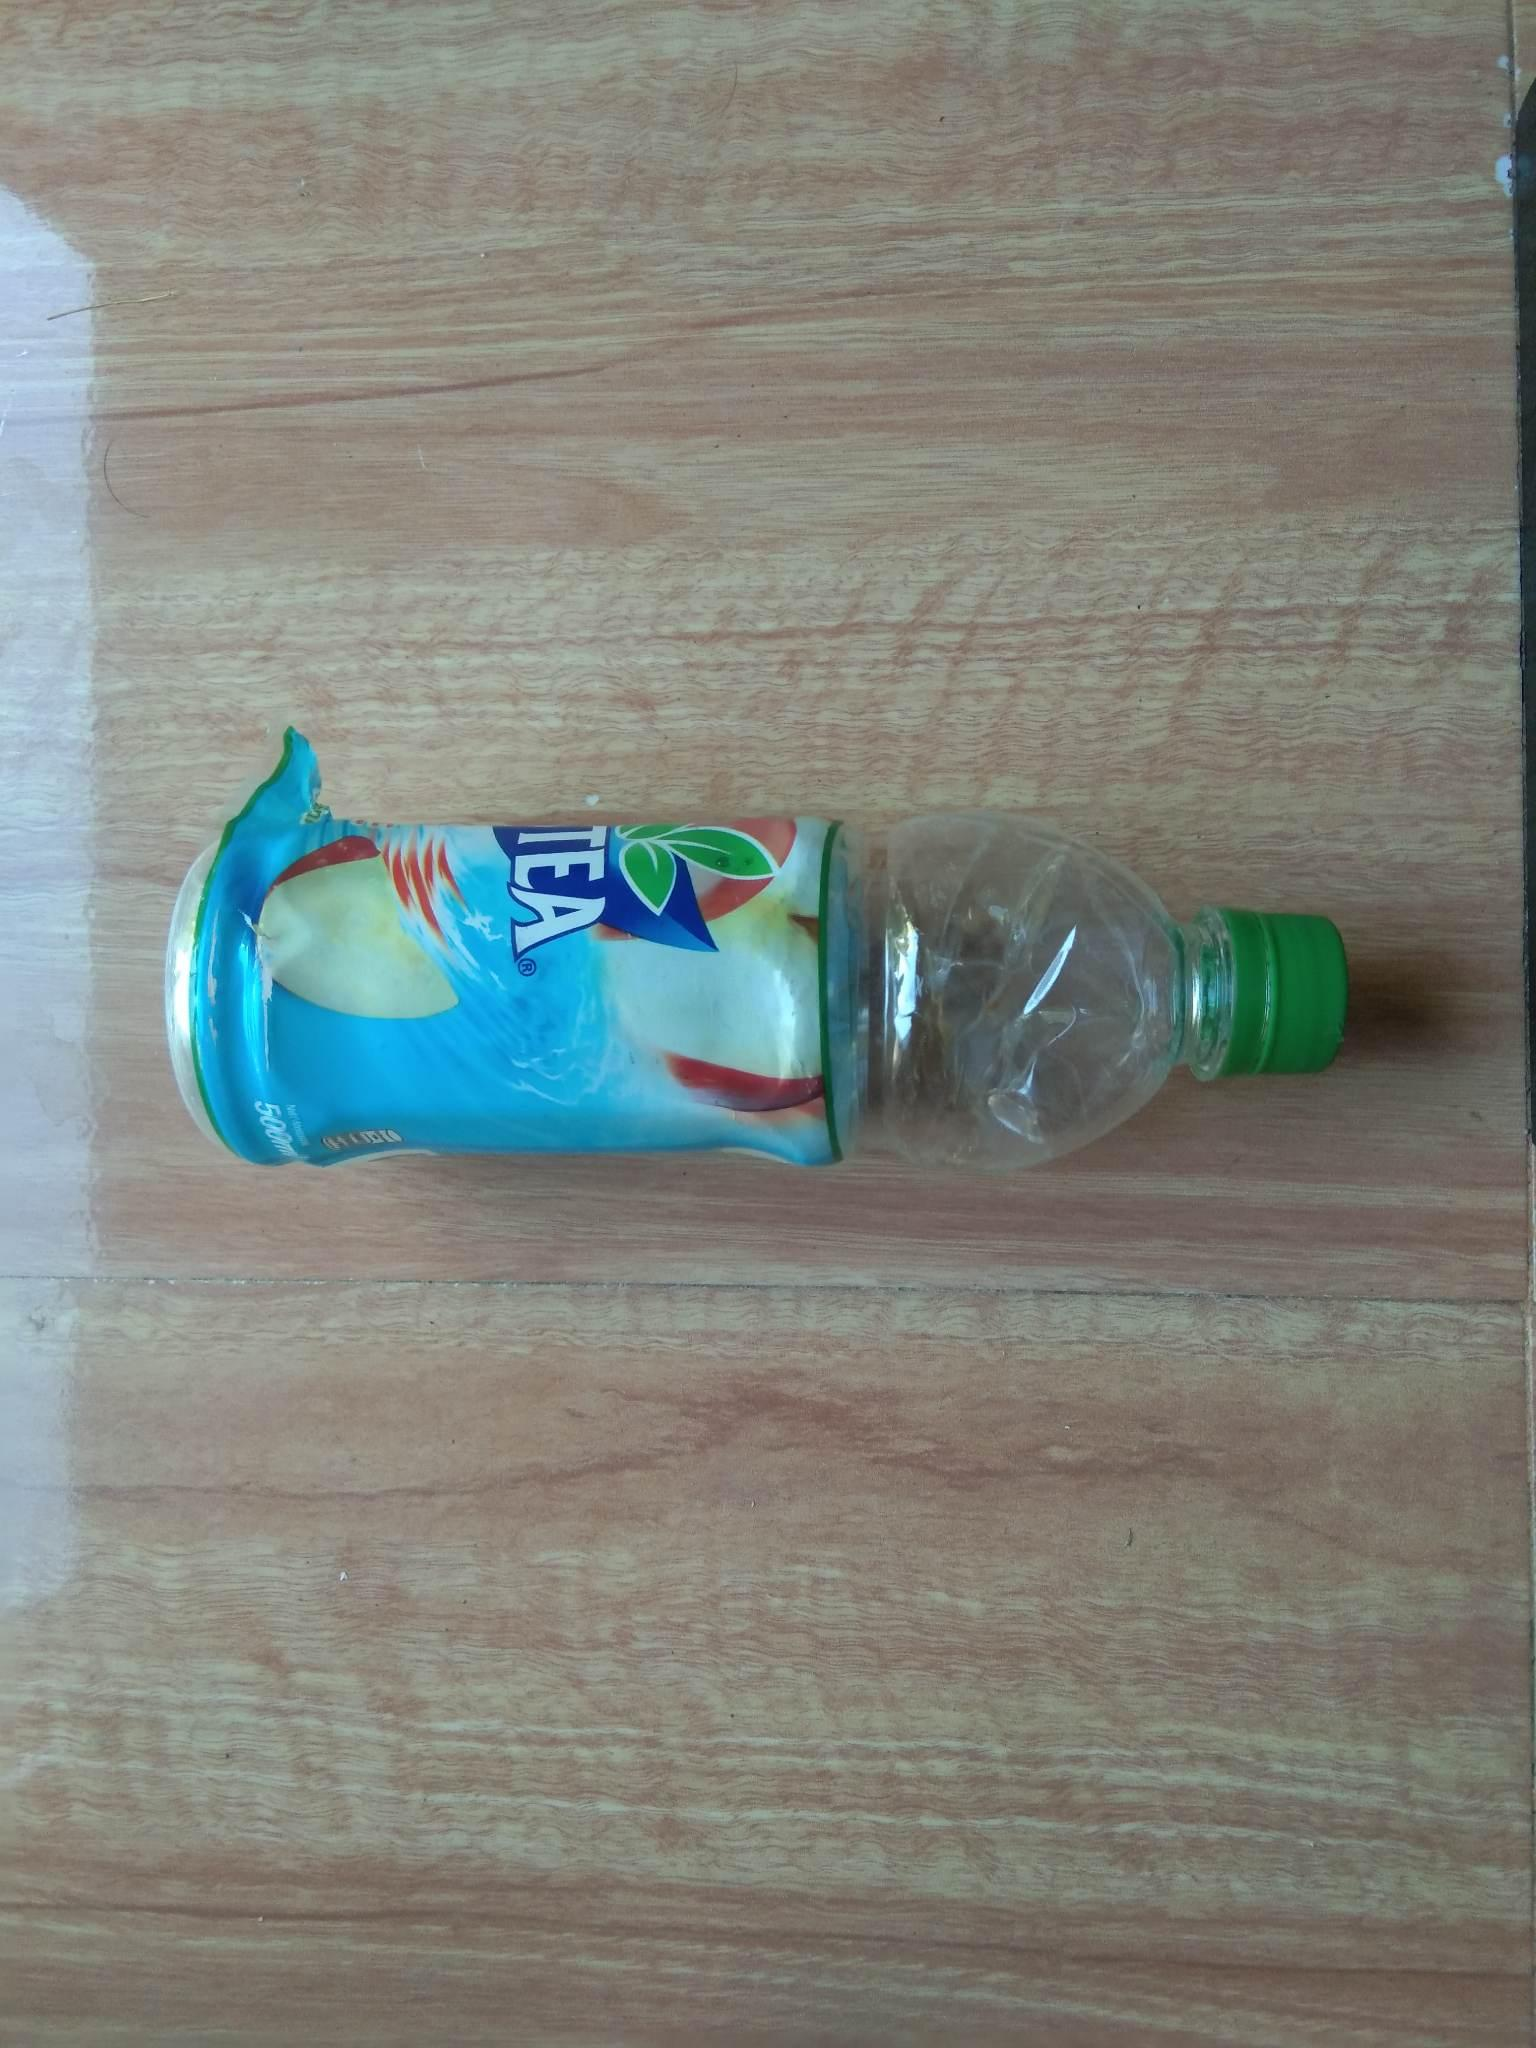plastic: (82, 698, 1409, 1226)
